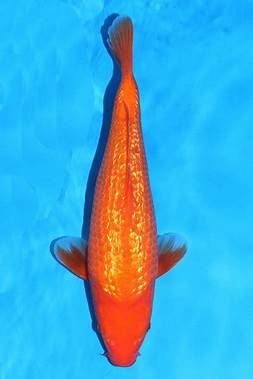red: (50, 14, 189, 368)
